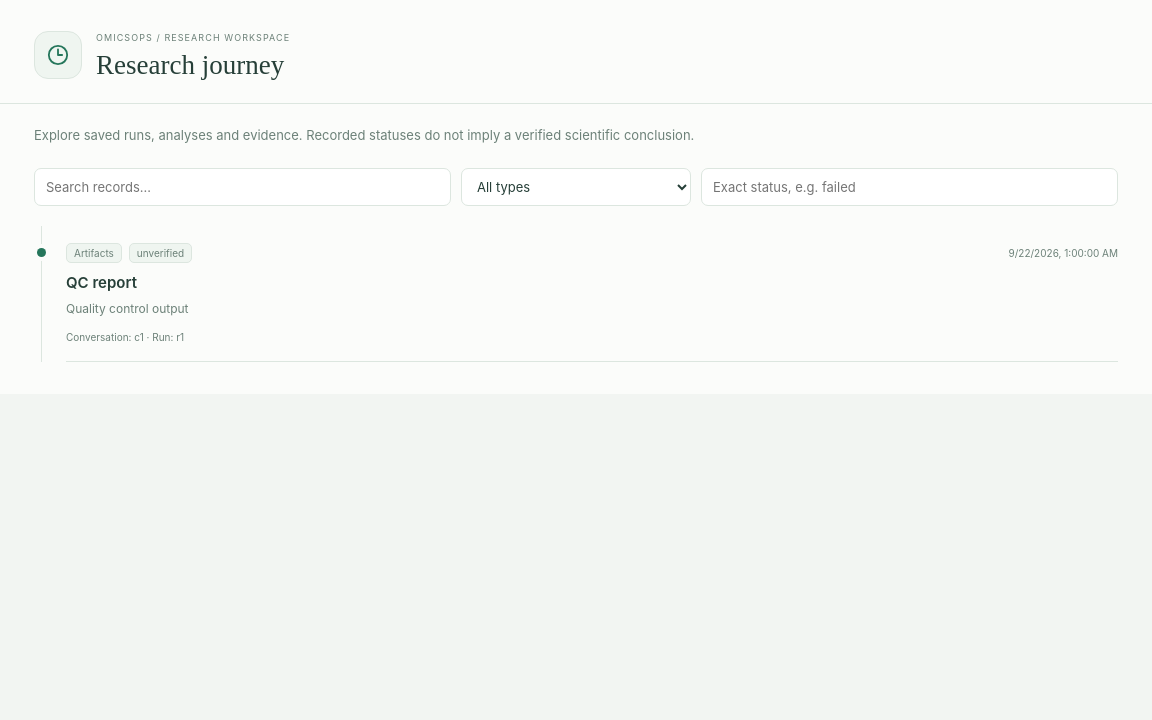
Test case: research journey › keeps collection request identity on an ambiguous failure
Step 1. Click the button "QC report Quality control output" → (101, 283), box [66, 263, 1118, 328]
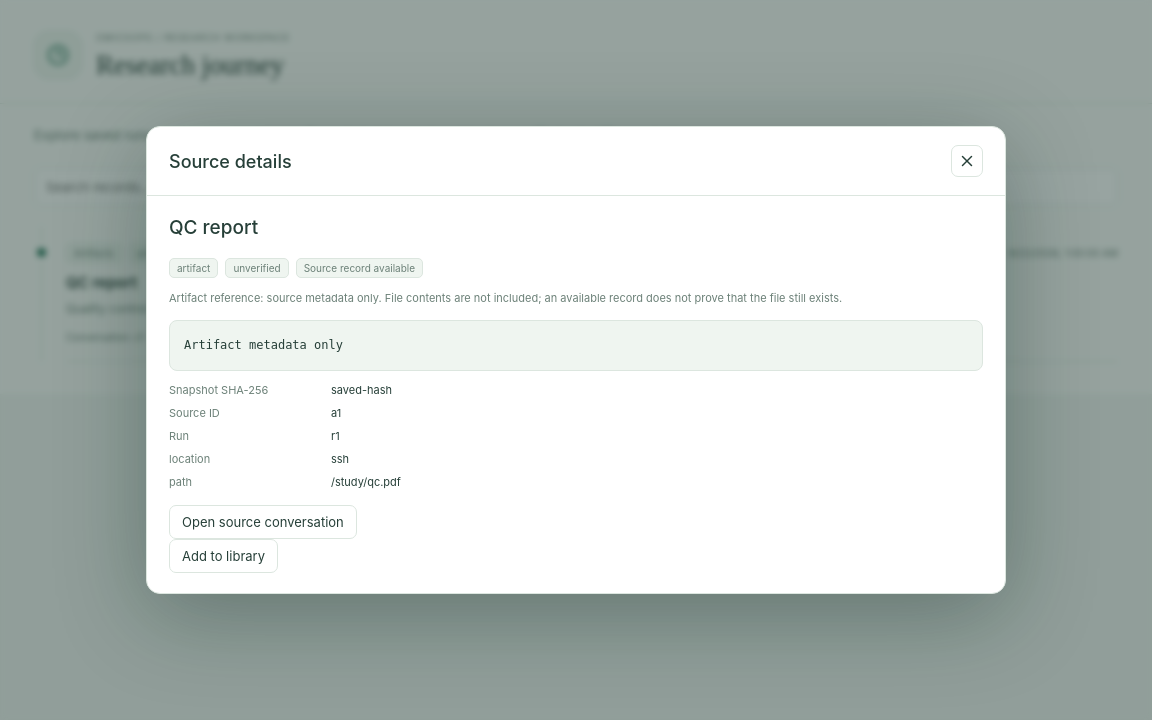
Step 2. Click the button "Add to library" → (224, 556), box [169, 538, 278, 572]
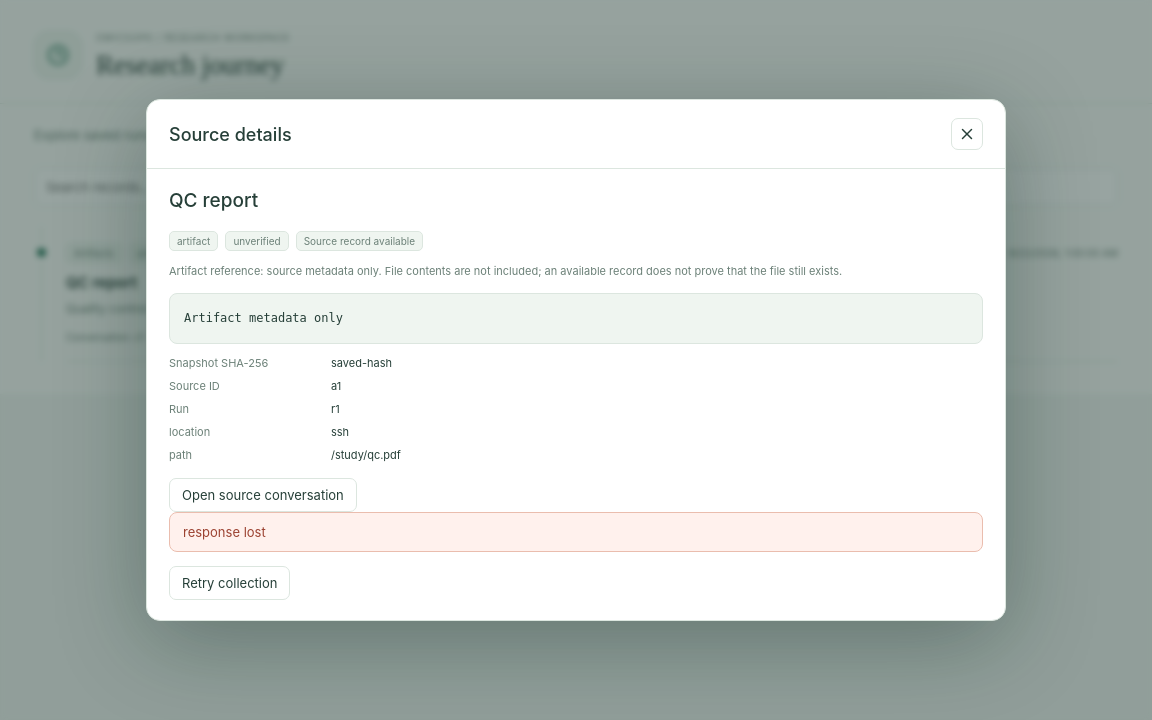
Check: the message reads "response lost", box [183, 524, 266, 540]
Step 3. Click the button "Retry collection" → (230, 582), box [169, 566, 290, 600]
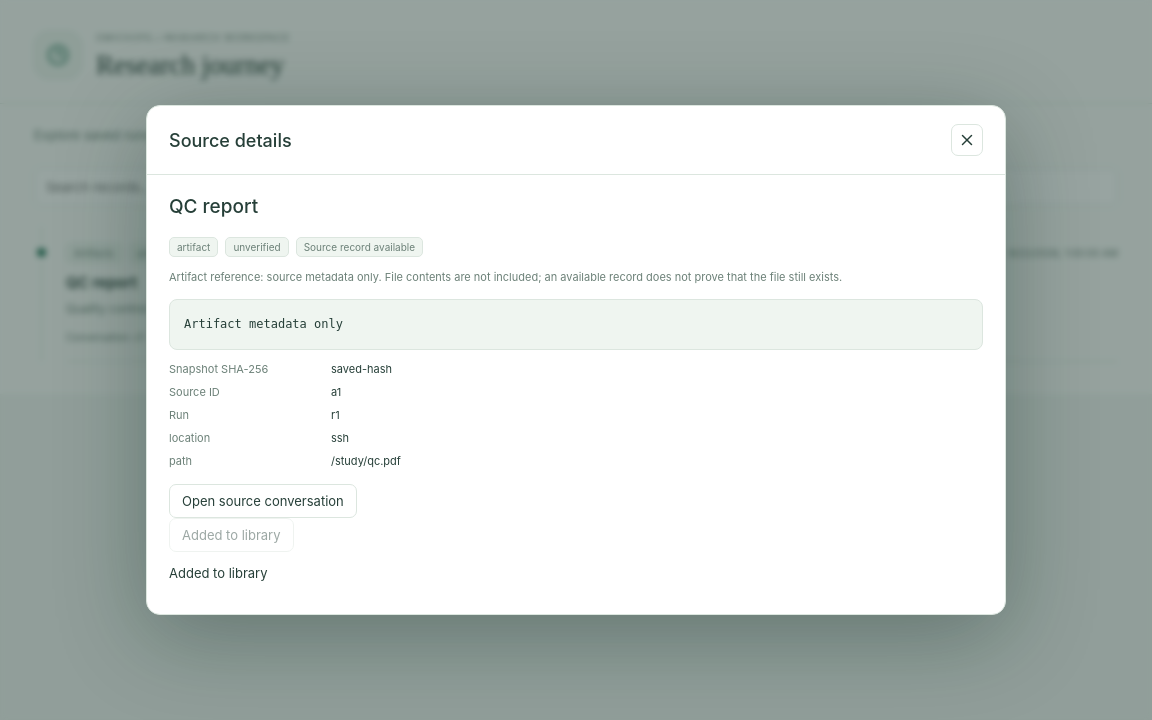
Check: the text "artifact" is shown, box [169, 238, 218, 258]
Check: the message reads "Added to library", box [169, 564, 268, 580]
